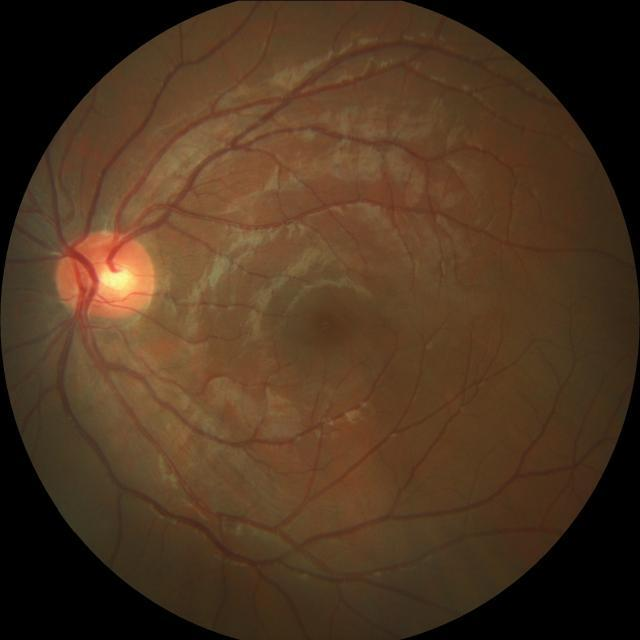OC: (98, 263, 136, 291)
OD: (57, 228, 160, 321)
